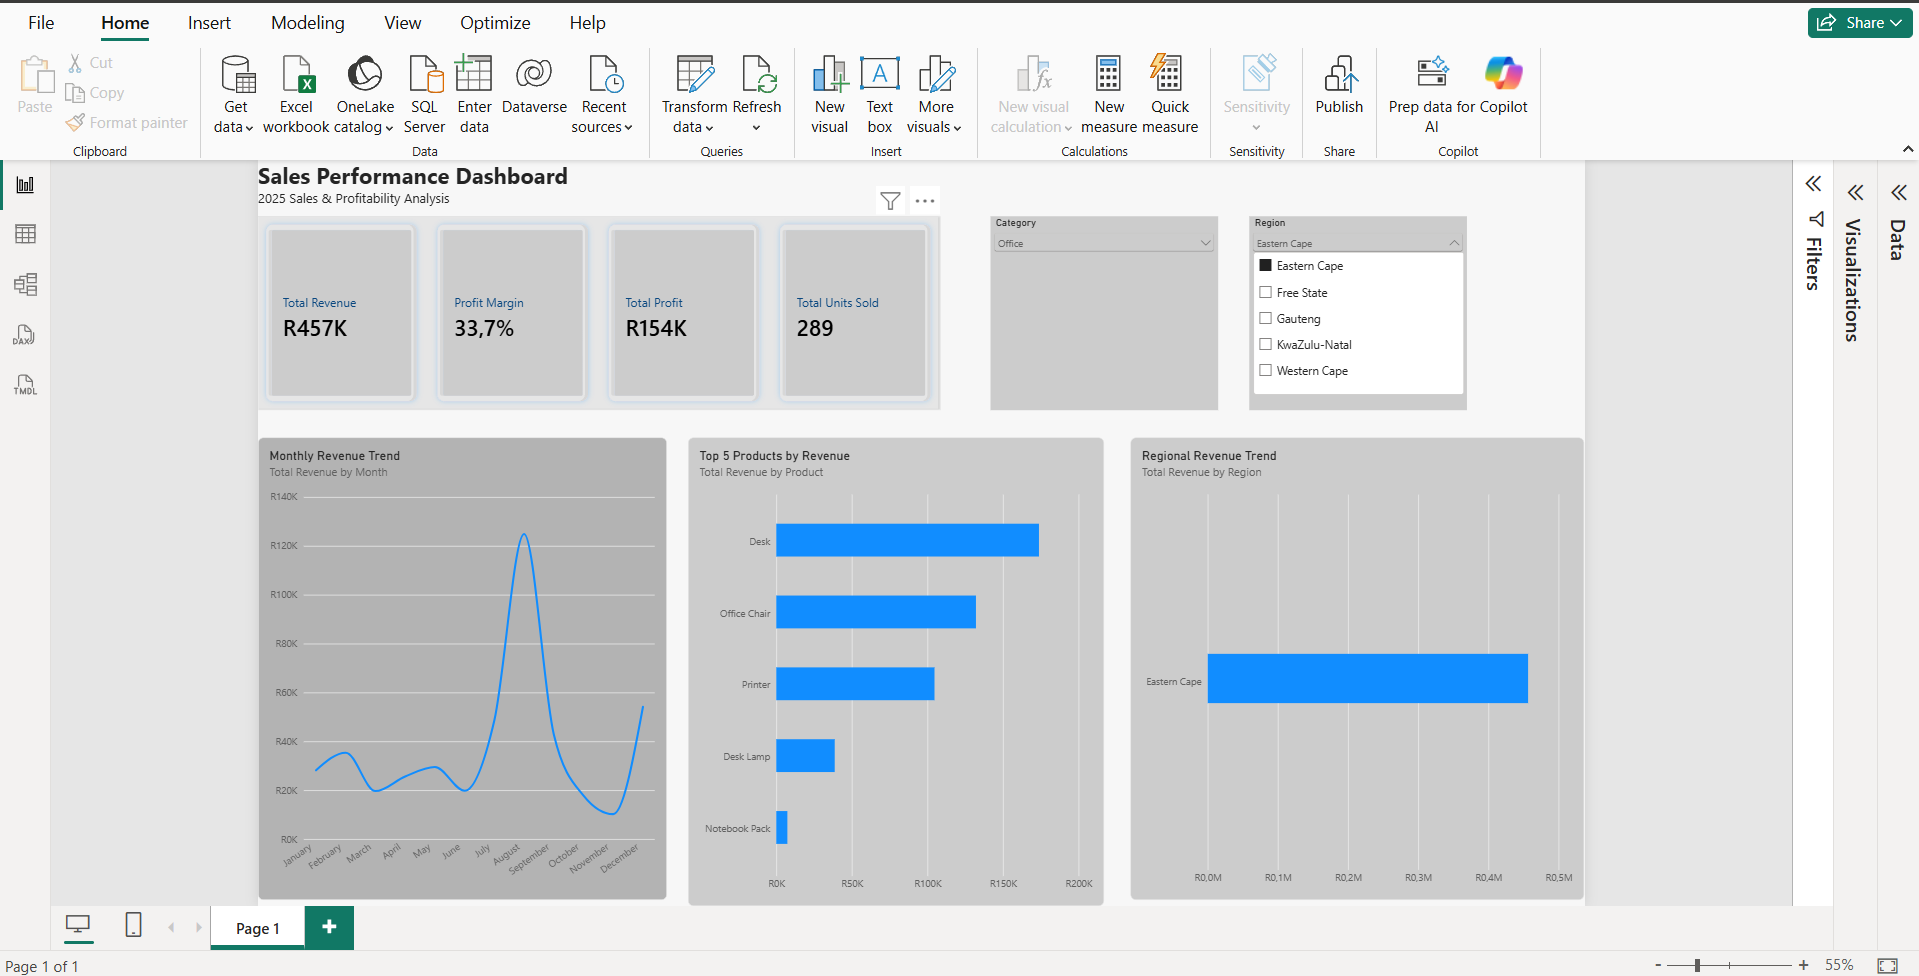

This screenshot's page, from the dashboard's own definition file:
{"tool":"powerbi","page":{"name":"Page 1","canvas":[1920,1080],"ordinal":0},"visuals":[{"type":"cardVisual","fields":{"Data":["Sales_Data.Total Revenue","Sales_Data.Profit Margin","Sales_Data.Total Profit","Sales_Data.Total Units Sold"]},"box":[0,81.2,988.1,280.5],"z":0},{"type":"lineChart","title":"Monthly Revenue Trend","fields":{"Category":["Sales_Data.Order Date.Variation.Date Hierarchy.Year","Sales_Data.Order Date.Variation.Date Hierarchy.Quarter","Sales_Data.Order Date.Variation.Date Hierarchy.Month","Sales_Data.Order Date.Variation.Date Hierarchy.Day"],"Y":["Sales_Data.Total Revenue"]},"box":[0,401.7,591.8,669.6],"z":1},{"type":"clusteredBarChart","title":"Regional Revenue Trend","fields":{"Category":["Sales_Data.Region"],"Y":["Sales_Data.Total Revenue"]},"box":[1263.1,401.7,656.9,669.6],"z":2},{"type":"clusteredBarChart","title":"Top 5 Products by Revenue","fields":{"Category":["Sales_Data.Product"],"Y":["Sales_Data.Total Revenue"]},"box":[622.5,401.7,602.6,678.6],"z":3},{"type":"slicer","fields":{"Values":["Sales_Data.Region"]},"box":[1435.1,81.4,314.9,280.5],"z":4},{"type":"slicer","fields":{"Values":["Sales_Data.Category"]},"box":[1060.5,81.4,329.4,280.5],"z":5},{"type":"textbox","box":[0,0,470.5,161.1],"z":6}]}

Visuals, with their boxes on the page's 1920x1080 design canvas (x1, y1, x2, y2). These are canvas units, not pixel positions in the 1919x976 screenshot, which may show the page scaled, cropped or inside an application window:
cardVisual - Sales_Data.Total Revenue x Sales_Data.Profit Margin: detection(0, 81, 988, 362)
"Monthly Revenue Trend" lineChart: detection(0, 402, 592, 1071)
"Regional Revenue Trend" clusteredBarChart: detection(1263, 402, 1920, 1071)
"Top 5 Products by Revenue" clusteredBarChart: detection(622, 402, 1225, 1080)
slicer - Sales_Data.Region: detection(1435, 81, 1750, 362)
slicer - Sales_Data.Category: detection(1060, 81, 1390, 362)
textbox: detection(0, 0, 470, 161)
